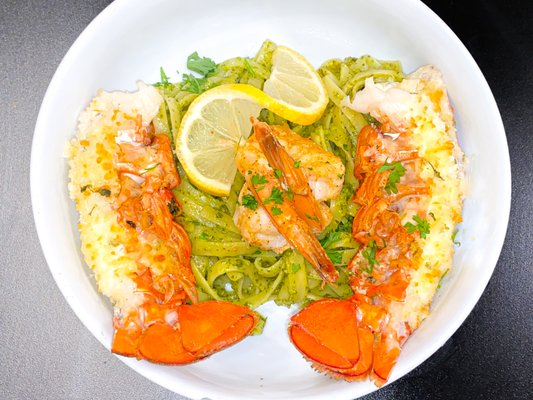sushi: (1, 0, 513, 398)
